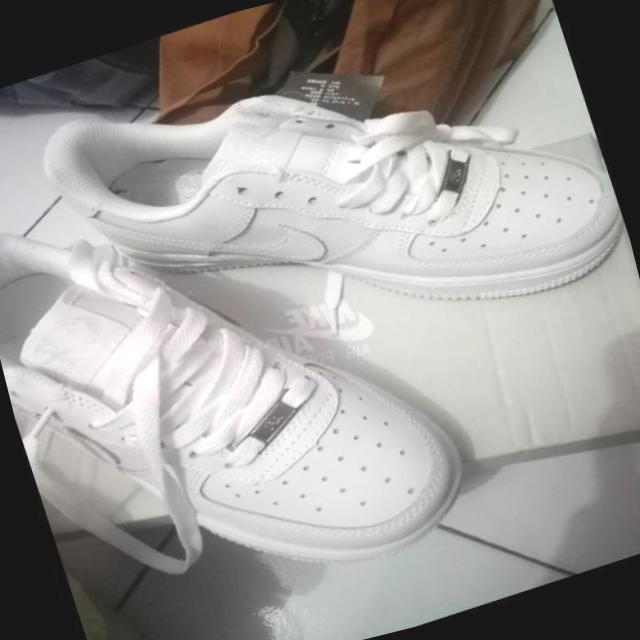nike_fake_airforce: (0, 97, 492, 640), (27, 0, 640, 431)
